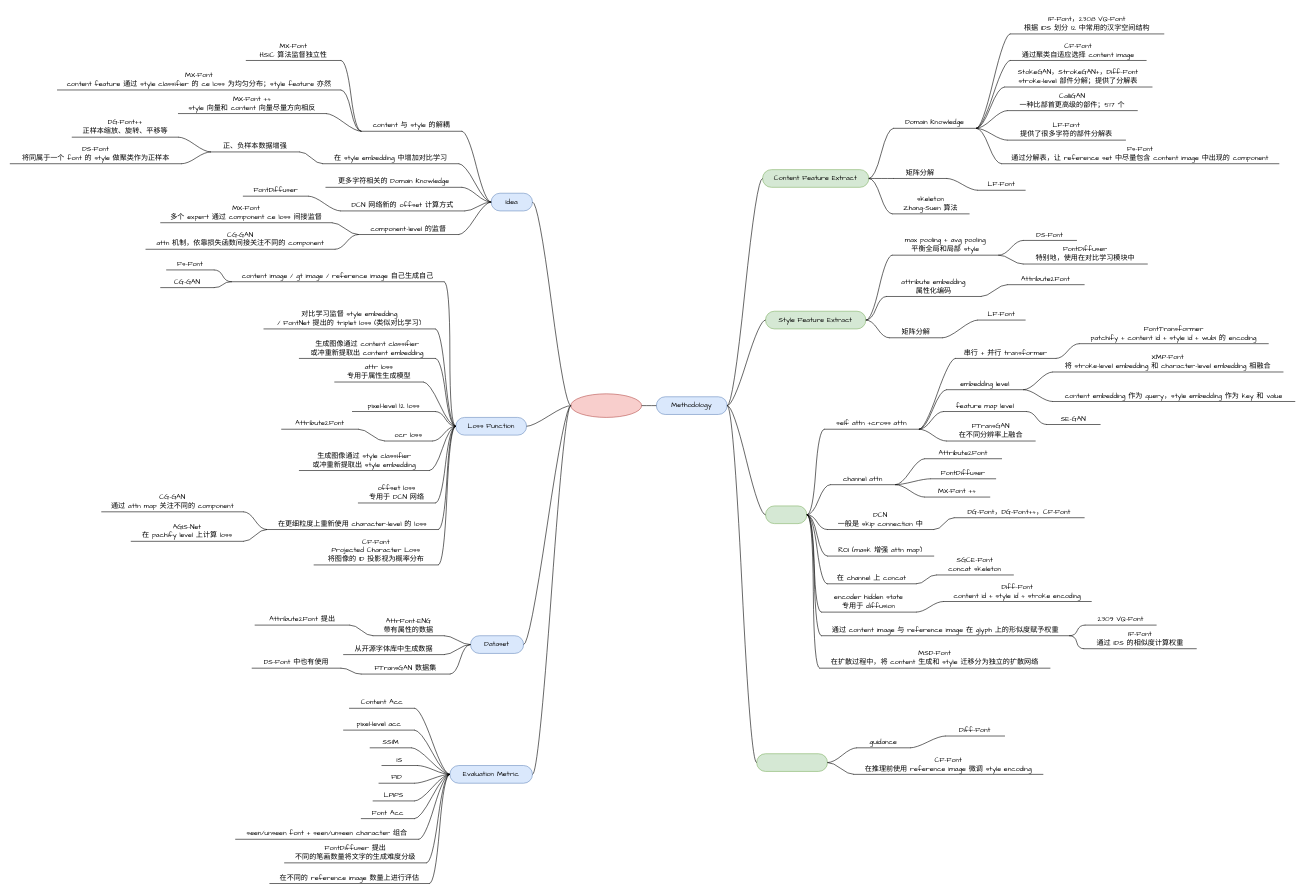
This 1305x894 diagram has some shape labels left out. Each missing label, with the box of its shape:
Font Style Transfer: (570, 393, 642, 417)
推理阶段增强: (756, 753, 827, 771)
融合: (765, 505, 807, 524)
